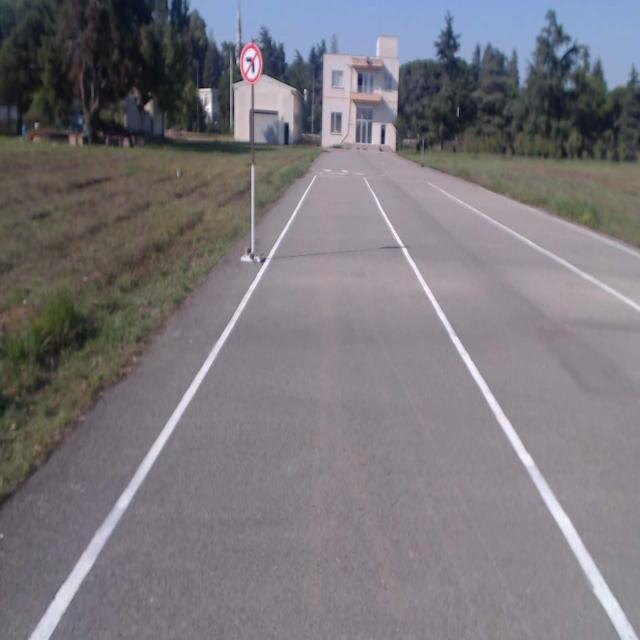soladonulmez: (240, 43, 262, 84)
